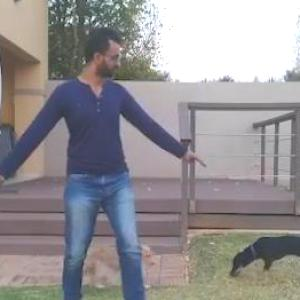land: (1, 15, 213, 299)
